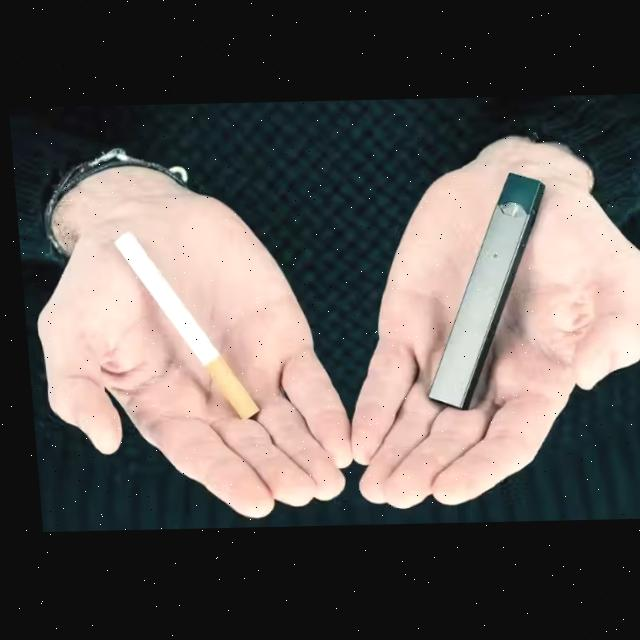cigarette: (109, 229, 253, 423)
vape: (405, 174, 557, 414)
